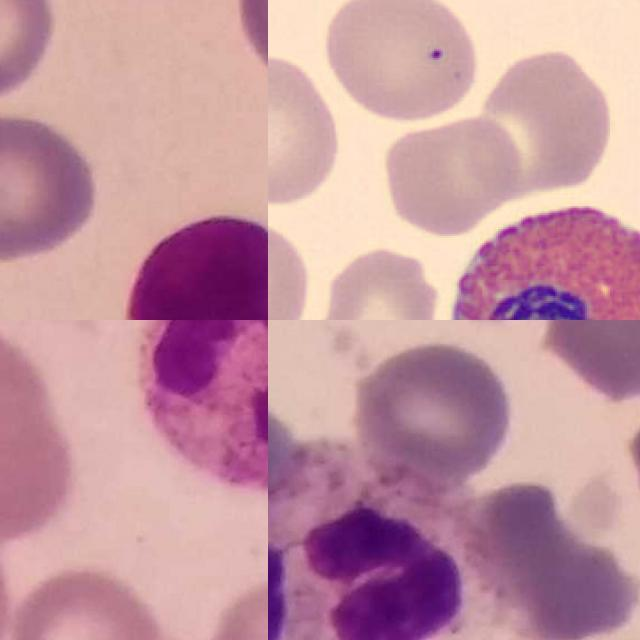Eosinophil: (432, 183, 640, 320)
Lymphocyte: (124, 214, 268, 320)
Neutrophil: (268, 441, 539, 640), (138, 320, 268, 487)
RBC: (320, 0, 482, 121), (377, 113, 525, 238), (268, 50, 345, 209), (315, 241, 450, 320), (268, 208, 316, 320)
